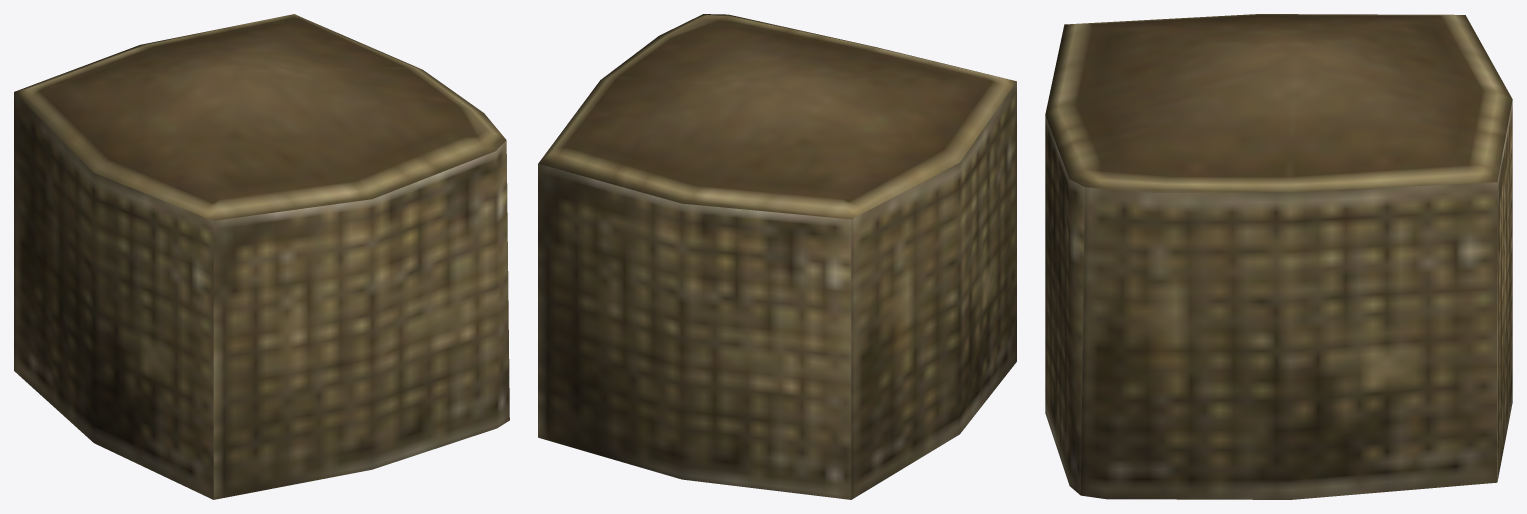
The model's file is zc_lekesigang_kuangzi01.FBX.
The picture shows the model from 3 angles, left to right: view 1: azimuth 30°, elevation 25°; view 2: azimuth 150°, elevation 25°; view 3: azimuth 270°, elevation 25°; orthographic projection. The views are drawn at different scales.
Visible parts, largest first — view 1: zc_lekesigang_kuangzi01; view 2: zc_lekesigang_kuangzi01; view 3: zc_lekesigang_kuangzi01.
Boxes of the visible parts, x1,y1,x2,y2 form: zc_lekesigang_kuangzi01: (14,14,509,499); zc_lekesigang_kuangzi01: (538,14,1016,499); zc_lekesigang_kuangzi01: (1045,14,1512,499).
Bounding box in the file's own units: 63.66 × 55.99 × 67.78.
